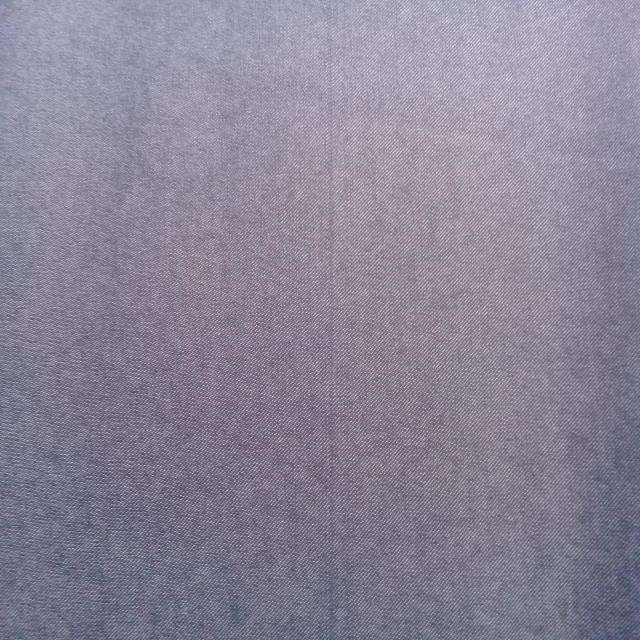Line: (320, 0, 340, 640)
